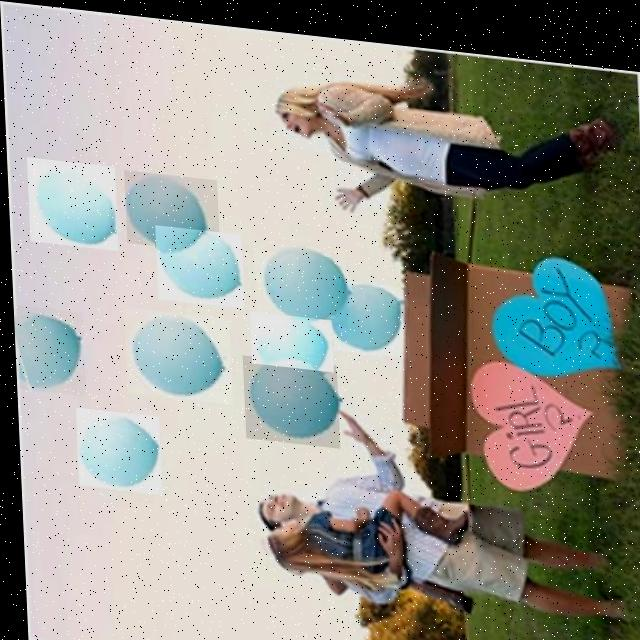balloon: (121, 303, 229, 399), (239, 349, 336, 440), (25, 156, 116, 247), (122, 166, 218, 247), (153, 220, 242, 303), (72, 405, 158, 490), (252, 243, 345, 318), (11, 304, 83, 394), (328, 271, 407, 349), (247, 305, 331, 364)
